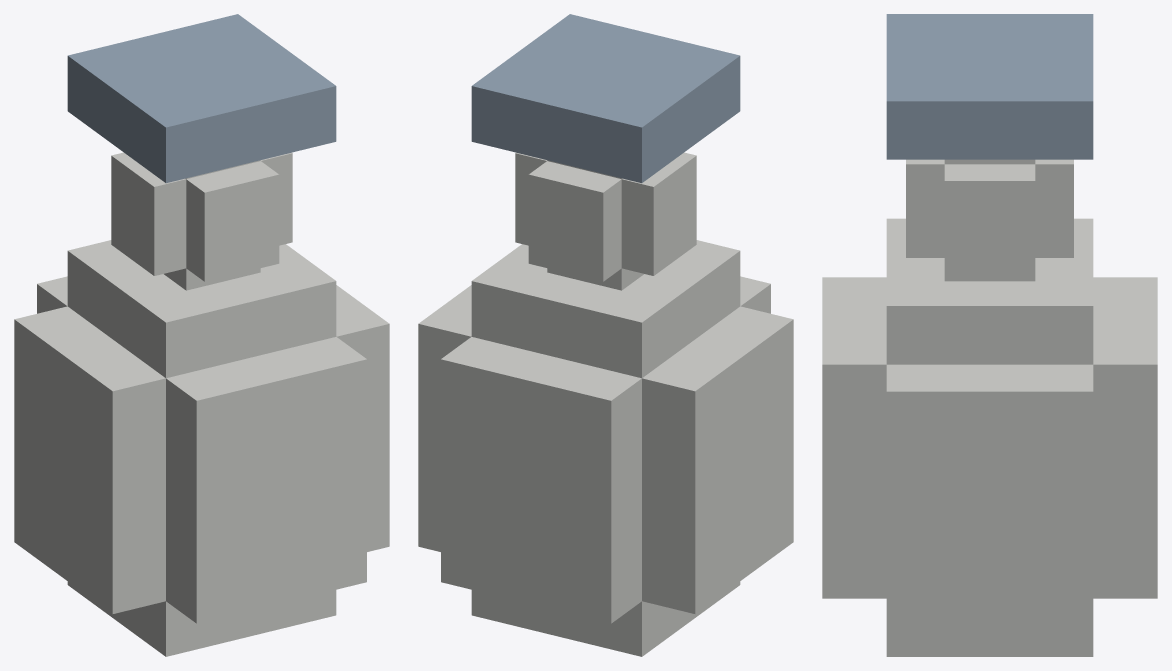
The model's file is Food_Milk.glb.
3 renders of one model, left to right at view 1: azimuth 30°, elevation 25°; view 2: azimuth 150°, elevation 25°; view 3: azimuth 270°, elevation 25°, orthographic. The views are drawn at different scales.
Parts seen in each view (by area): view 1: geometry_0; view 2: geometry_0; view 3: geometry_0.
Boxes of the visible parts, x1=… form: geometry_0: x1=14, y1=14, x2=389, y2=656; geometry_0: x1=418, y1=14, x2=793, y2=656; geometry_0: x1=822, y1=14, x2=1157, y2=656.
Size of the model in its own units: 0.442 by 0.8075 by 0.442.
